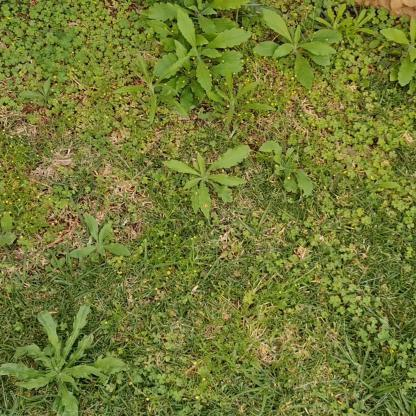Weeds: (0, 301, 128, 415), (145, 10, 252, 113), (249, 8, 340, 90), (160, 145, 250, 219), (113, 49, 190, 128), (201, 66, 275, 130), (142, 0, 251, 41), (67, 214, 132, 266), (258, 141, 315, 199), (379, 19, 415, 92), (313, 2, 353, 48), (19, 81, 61, 110), (346, 6, 373, 39)
